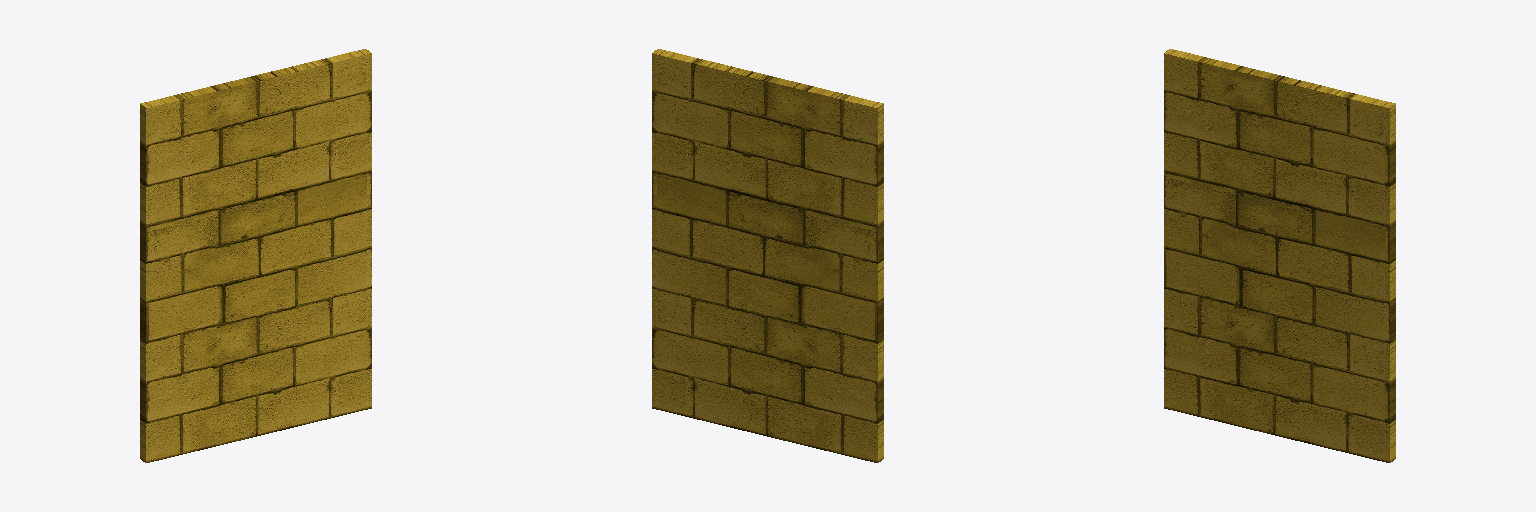
The picture shows the model from 3 angles: view 1: azimuth 30°, elevation 25°; view 2: azimuth 150°, elevation 25°; view 3: azimuth 330°, elevation 25°; orthographic projection.
Visible parts, largest first — view 1: brick_wall_x1_SF1; view 2: brick_wall_x1_SF1; view 3: brick_wall_x1_SF1.
Boxes of the visible parts, x1=… form: brick_wall_x1_SF1: x1=140, y1=49, x2=371, y2=462; brick_wall_x1_SF1: x1=652, y1=49, x2=883, y2=462; brick_wall_x1_SF1: x1=1164, y1=49, x2=1395, y2=462.
Bounding box in the file's own units: 200 × 300 × 10.
Materials: 1 (1 with a texture image).